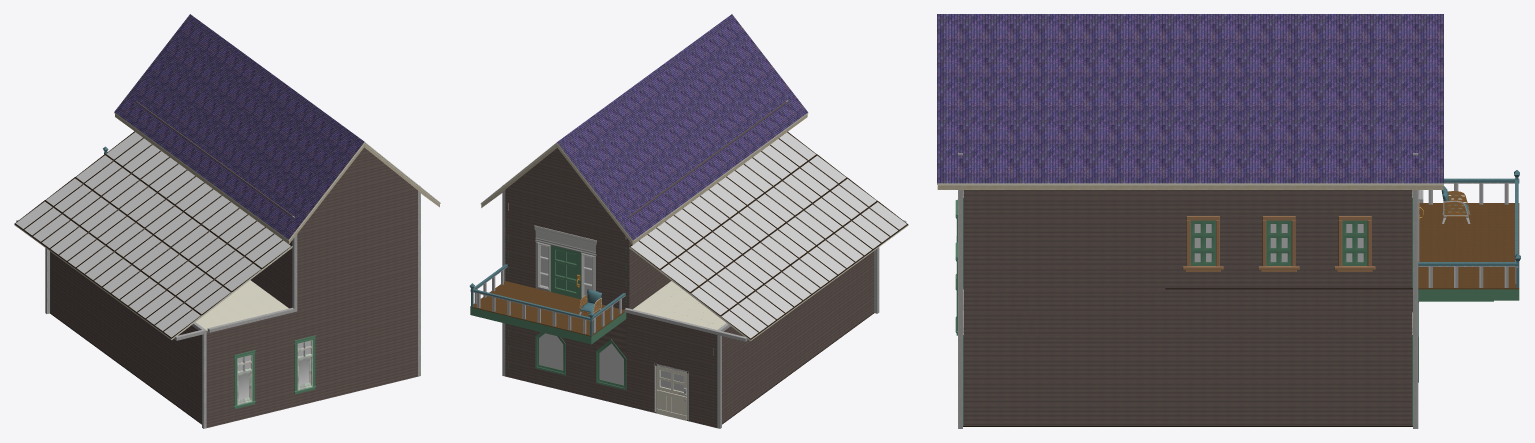
3 views of the same model, side by side, from view 1: azimuth 30°, elevation 25°; view 2: azimuth 150°, elevation 25°; view 3: azimuth 270°, elevation 25° (orthographic). The views are drawn at different scales.
Parts seen in each view (by area): view 1: 窗戶12_1, 窗戶12, 屋頂4_63, 屋頂4_34, 屋頂4_33, 屋頂4_31, 屋頂4_66, 屋頂4_54, 屋頂4_57, 屋頂4_58, 屋頂4_61, 屋頂4_65 (+62 smaller); view 2: 門框4, 窗戶14, 門7, 門8, 窗戶14_1, 地板_6_2, 屋頂4_54, 地板_6, 屋頂4_38, 屋頂4_39, 屋頂4_1, 屋頂4_63 (+56 smaller); view 3: 窗戶13_2, 窗戶13, 窗戶13_1, 地板_6_4, 地板_6_6, 地板_6_7, 屋頂2_1, 地板_6, 屋頂2_8, 地板_6_1, 屋頂2_17, 屋頂2_28 (+244 smaller).
Part boxes in pixels (x1,y1,x2,y2): 窗戶12_1: (294, 335, 315, 394); 窗戶12: (233, 350, 255, 408); 屋頂4_63: (162, 308, 201, 339); 屋頂4_34: (193, 285, 232, 316); 屋頂4_33: (224, 262, 262, 293); 屋頂4_31: (254, 239, 292, 270); 屋頂4_66: (136, 289, 175, 320); 屋頂4_54: (14, 200, 53, 230); 屋頂4_57: (40, 219, 79, 249); 屋頂4_58: (49, 225, 88, 256); 屋頂4_61: (75, 245, 114, 275); 屋頂4_65: (145, 295, 184, 326); 門框4: (534, 225, 596, 300); 窗戶14: (596, 325, 626, 390); 門7: (656, 366, 686, 420); 門8: (550, 245, 580, 299); 窗戶14_1: (535, 331, 565, 375); 地板_6_2: (520, 288, 565, 307); 屋頂4_54: (720, 309, 759, 340); 地板_6: (489, 281, 534, 299); 屋頂4_38: (659, 263, 698, 294); 屋頂4_39: (690, 286, 728, 317); 屋頂4_1: (629, 240, 667, 271); 屋頂4_63: (868, 200, 908, 231); 窗戶13_2: (1334, 216, 1375, 271); 窗戶13: (1258, 216, 1299, 271); 窗戶13_1: (1182, 216, 1223, 271); 地板_6_4: (1419, 224, 1468, 245); 地板_6_6: (1468, 224, 1519, 245); 地板_6_7: (1468, 203, 1519, 224); 屋頂2_1: (1417, 148, 1443, 185); 地板_6: (1418, 267, 1468, 289); 屋頂2_8: (1013, 148, 1039, 185); 地板_6_1: (1468, 267, 1519, 289); 屋頂2_17: (987, 148, 1013, 185); 屋頂2_28: (1341, 148, 1367, 185).
Size of the model in its own units: 1728 by 1634 by 2308.
